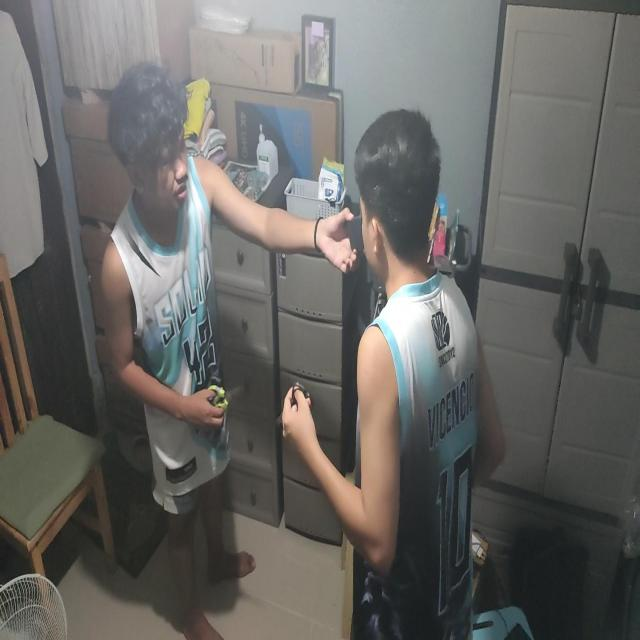scissor: (204, 382, 248, 419)
